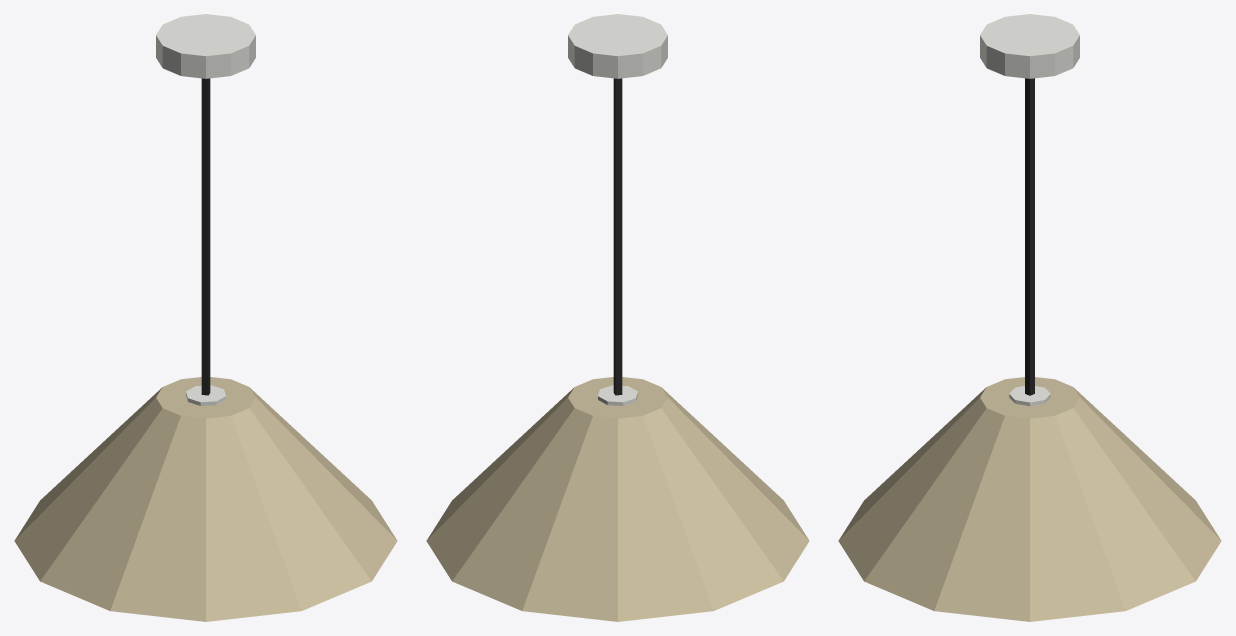
File: plafonnier.glb
3 views of the same model, side by side, from view 1: azimuth 30°, elevation 25°; view 2: azimuth 150°, elevation 25°; view 3: azimuth 270°, elevation 25° (orthographic).
Parts seen in each view (by area): view 1: shade, rose, cord, socket; view 2: shade, rose, cord, socket; view 3: shade, rose, cord, socket.
Boxes of the visible parts, <box> form: shade: <box>14,377,397,621</box>; rose: <box>156,14,255,78</box>; cord: <box>201,78,210,395</box>; socket: <box>186,385,225,405</box>; shade: <box>426,377,809,621</box>; rose: <box>568,14,667,78</box>; cord: <box>613,78,622,395</box>; socket: <box>598,385,637,405</box>; shade: <box>838,377,1221,621</box>; rose: <box>980,14,1079,78</box>; cord: <box>1025,78,1034,395</box>; socket: <box>1009,386,1050,406</box>.
Size of the model in its own units: 0.46 by 0.67 by 0.46.
4 materials, 4 textured.
